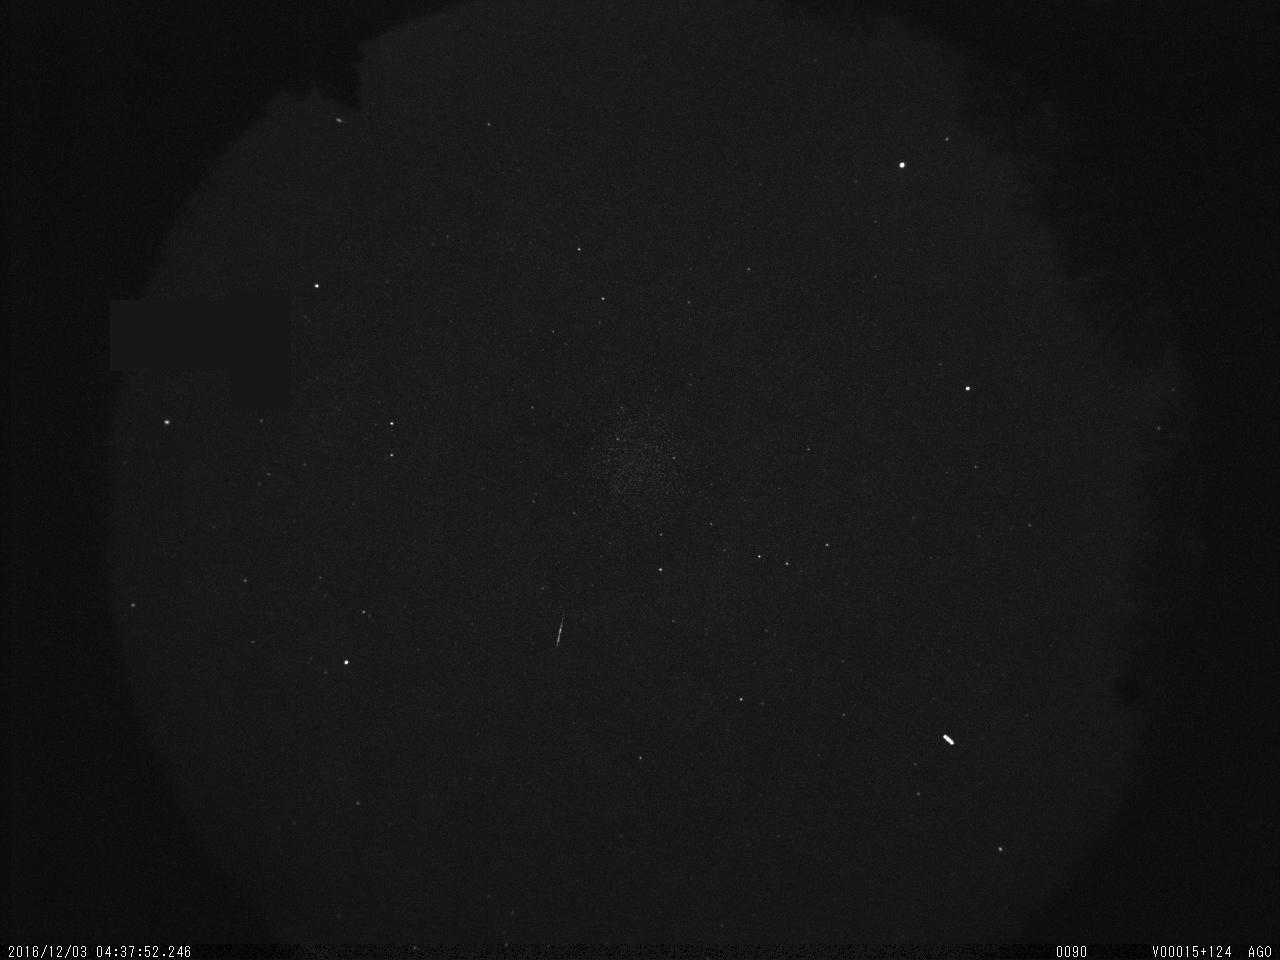meteor: (545, 599, 586, 666)
